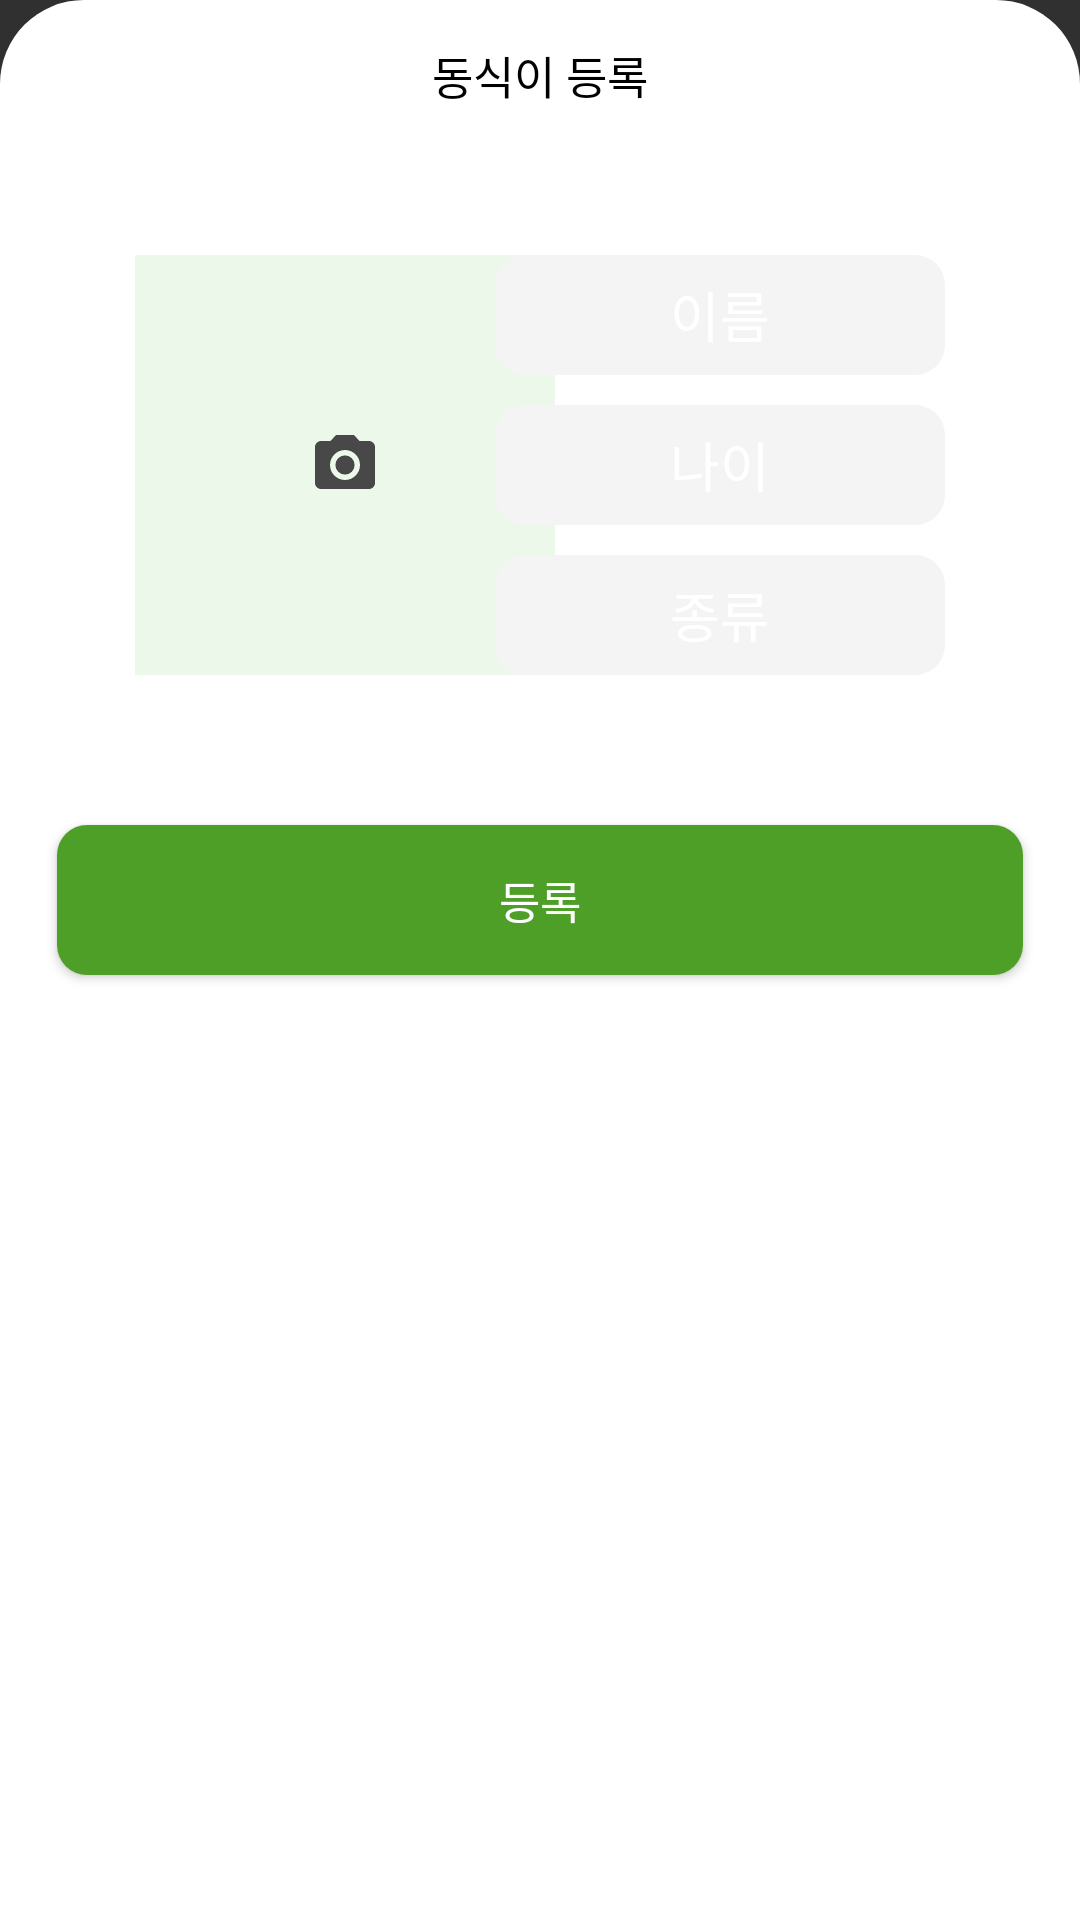

Locate icon controls on the screen. Image size 1080w x 1920h, boxes as (left=x1, top=y1, right=x2, bottom=y2).
camera: (left=315, top=435, right=375, bottom=489)
